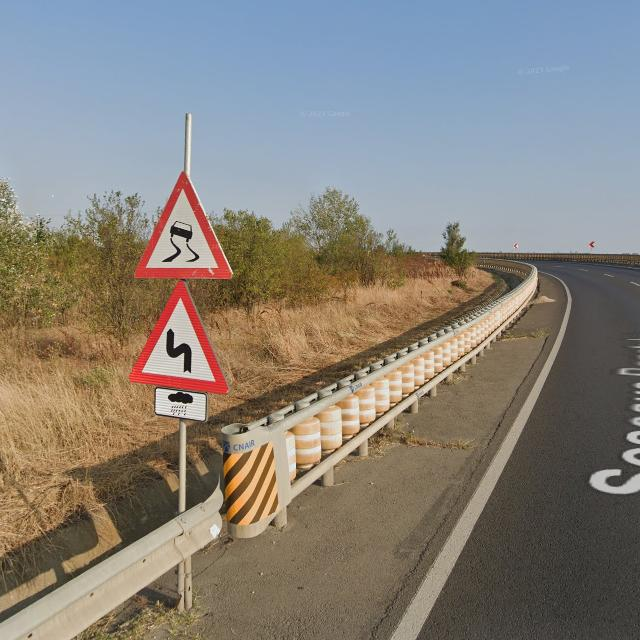warn_slippery_road: (133, 171, 235, 277)
